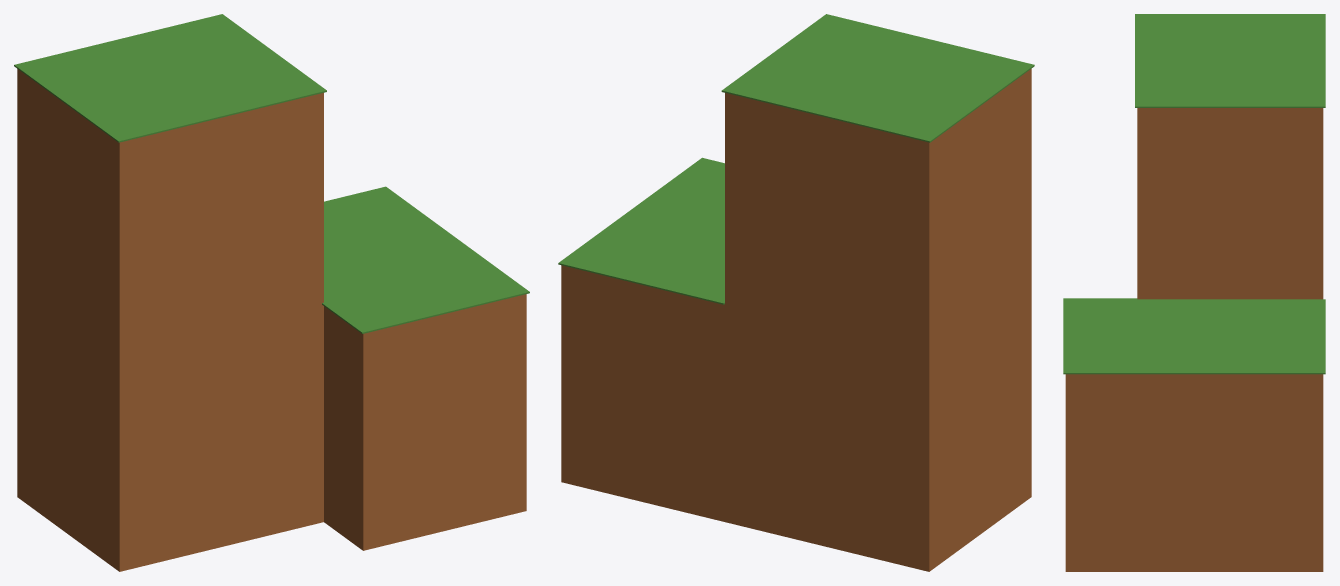
File: O_SPlatform12.glb
3 renders of one model, left to right at view 1: azimuth 30°, elevation 25°; view 2: azimuth 150°, elevation 25°; view 3: azimuth 270°, elevation 25°, orthographic. The views are drawn at different scales.
Visible parts, largest first — view 1: SPlatform12; view 2: SPlatform12; view 3: SPlatform12.
Boxes of the visible parts, x1=… form: SPlatform12: x1=14, y1=14, x2=529, y2=571; SPlatform12: x1=558, y1=14, x2=1034, y2=571; SPlatform12: x1=1063, y1=14, x2=1325, y2=571.
Size of what is drawn, in the model's own units: 27.3 by 30.3 by 18.3.
